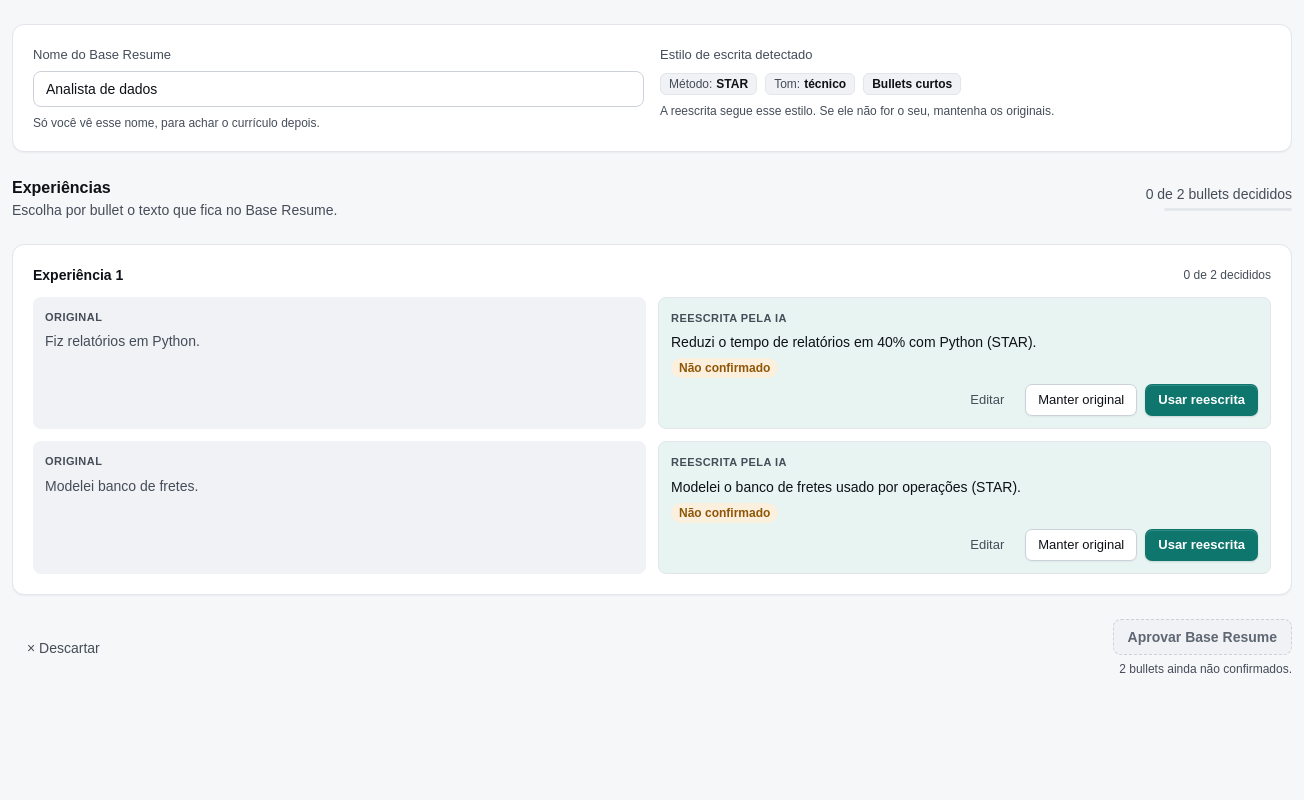
ProposalScreen › should save an edited bullet as a confirmed rewritten choice
Click the 1st button "Editar" at (987, 400), box [957,384,1017,416]
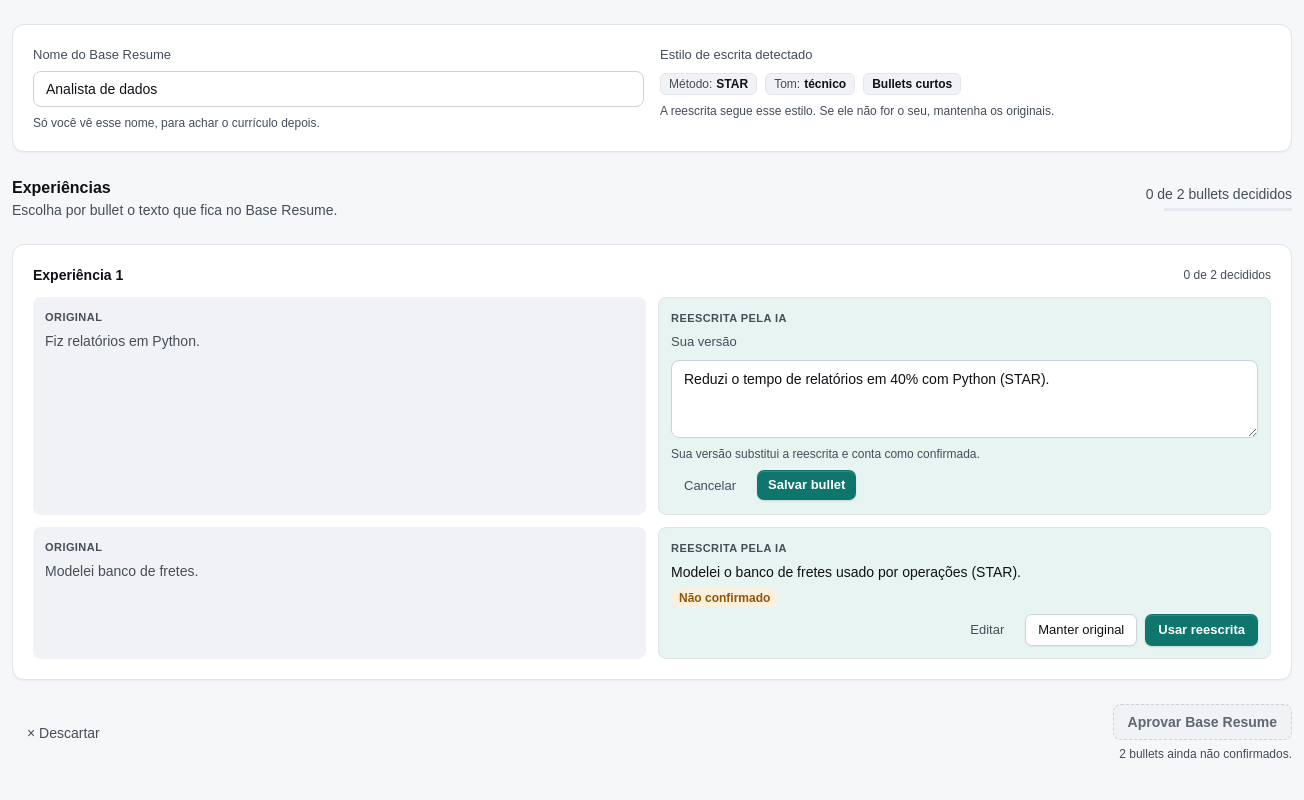
Replace the text in the text box labelled "Sua versão" with "Minha versão editada." at (964, 398), box [671,360,1258,438]
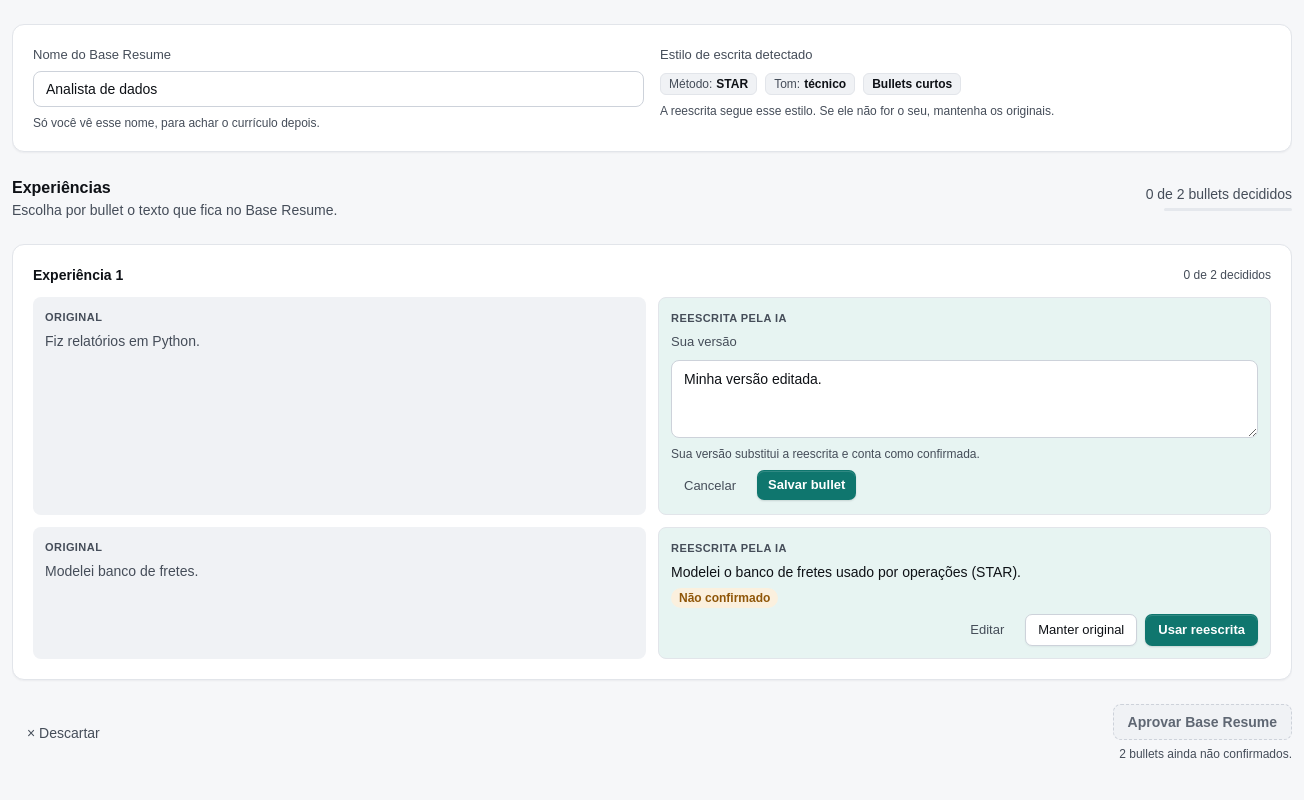
Click the button "Salvar bullet" at (807, 484), box [757,470,856,500]
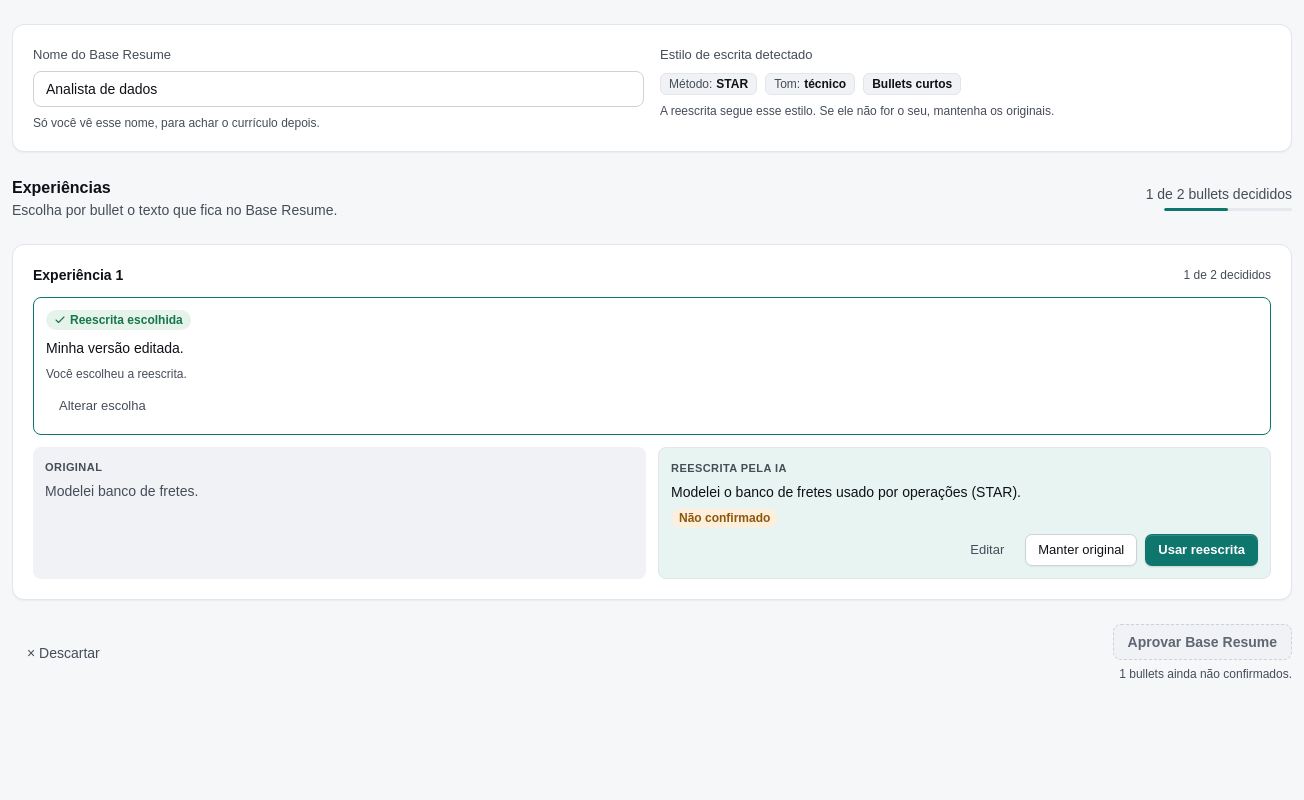
Expected: the text "Minha versão editada." is shown, [46,340,184,356]
Expected: the text "1 de 2 bullets decididos" is shown, [1146,184,1292,204]
